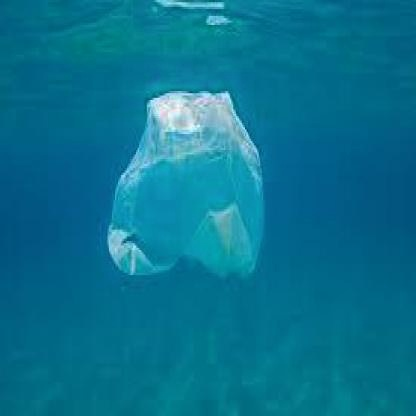pbag: (106, 89, 266, 282)
